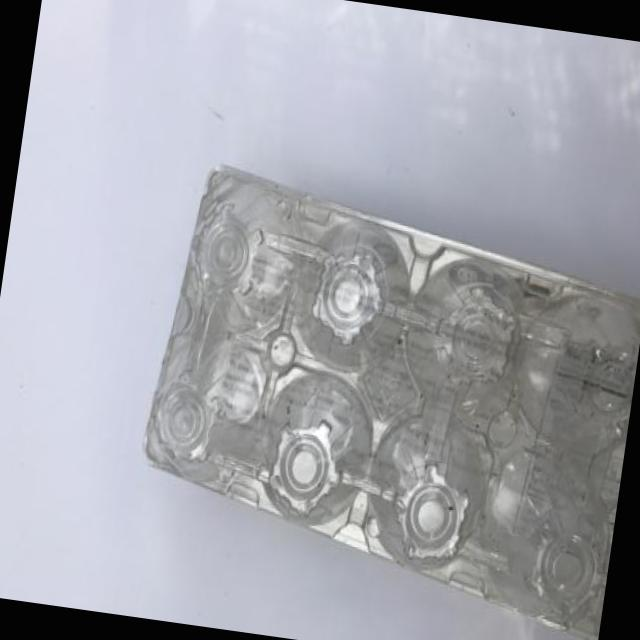plastic: (146, 169, 639, 639)
